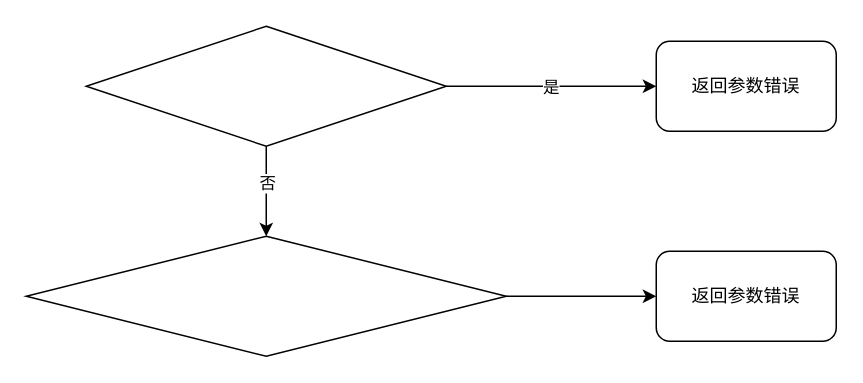
Image size: 863x383. Some labels were removed from this diagram. The shapes that lost their labels are listed below. From the top down, each one's centre as x and y in pixels, then its label:
the point at 265,85: 标签组id是否为空
the point at 265,295: 标签数量是否大于等于1 && 小于等于50
